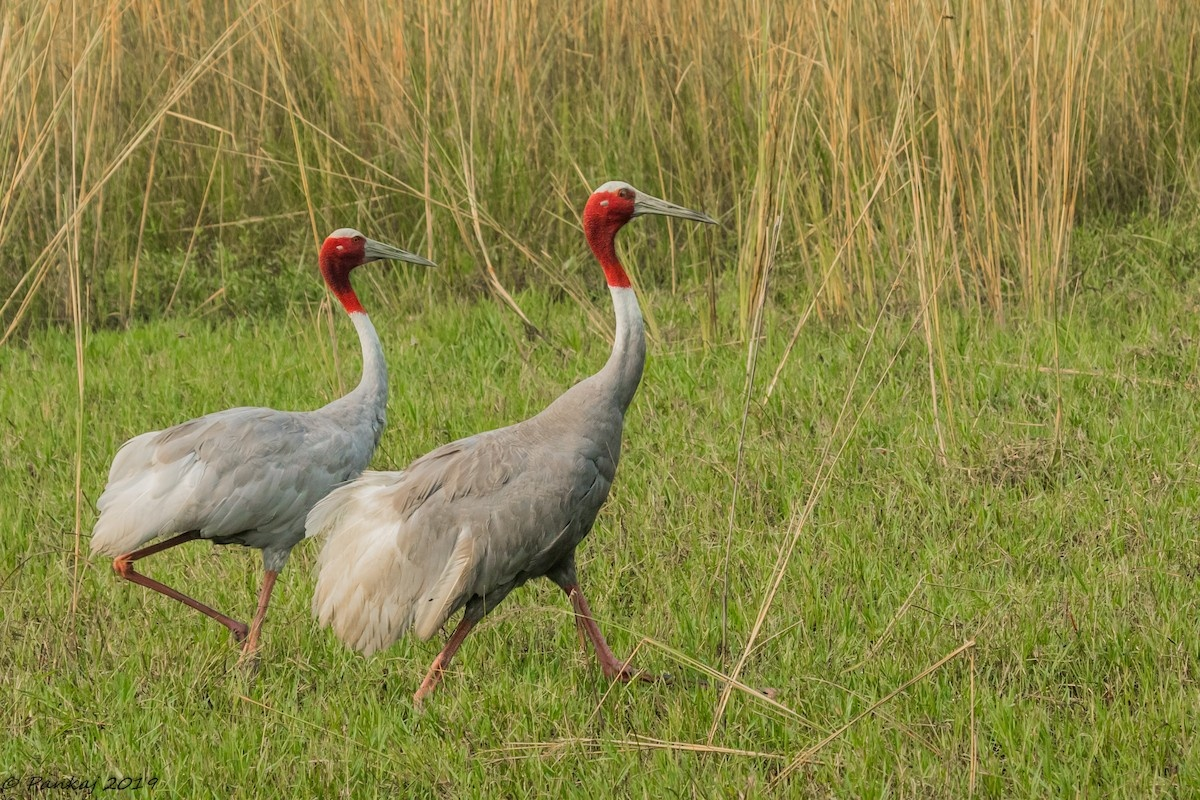crane: (407, 171, 729, 693), (122, 209, 442, 680)
